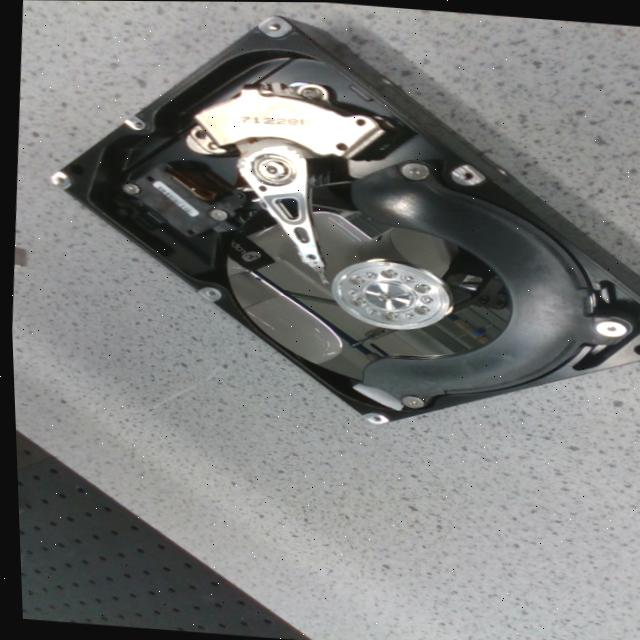actuator arm: (237, 143, 321, 271)
actuator axis: (256, 157, 287, 182)
case: (49, 15, 640, 424)
magnet: (192, 88, 382, 156)
pcb connector: (124, 162, 240, 237)
platter: (222, 180, 507, 382)
platter holder: (328, 258, 447, 328)
platter protector: (352, 167, 630, 398)
screw: (593, 319, 623, 336), (398, 162, 426, 179), (398, 394, 420, 407), (119, 182, 138, 194), (206, 208, 225, 220), (347, 296, 363, 306), (412, 283, 428, 292), (378, 268, 394, 277), (345, 276, 361, 285), (379, 311, 394, 320), (411, 305, 426, 313)
